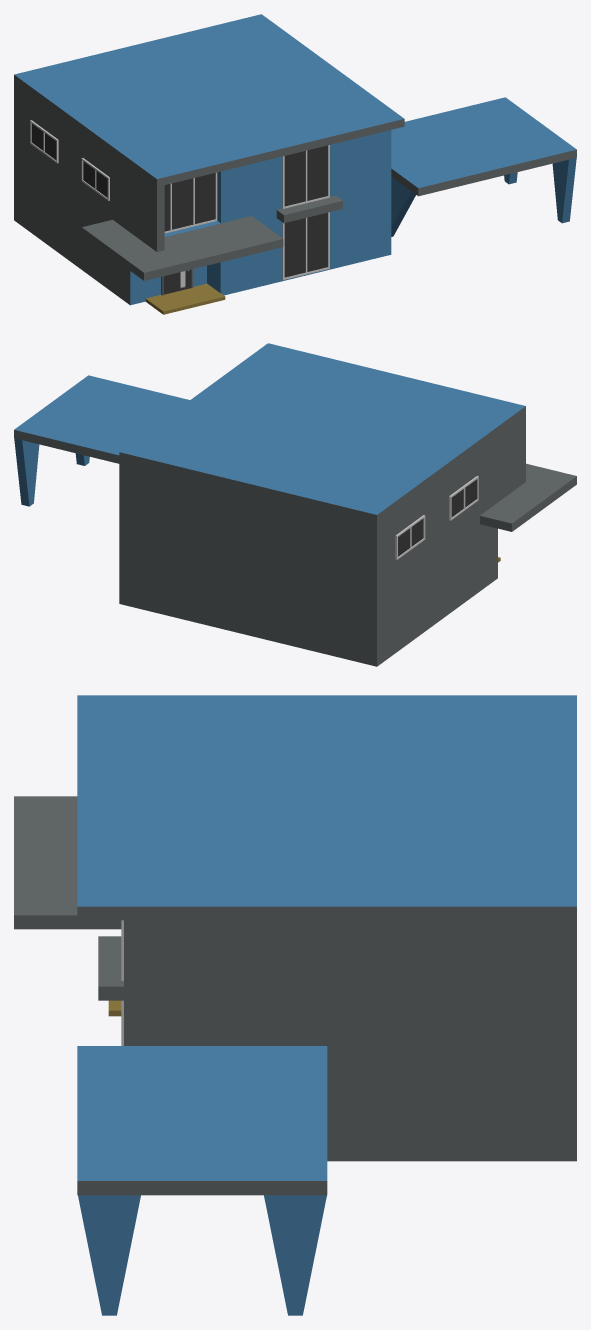
The model's file is building-house-04-color01.glb.
3 renders of one model, top to bottom at view 1: azimuth 30°, elevation 25°; view 2: azimuth 150°, elevation 25°; view 3: azimuth 270°, elevation 25°, orthographic. The views are drawn at different scales.
Visible parts, largest first — view 1: Building_House_04_color01; view 2: Building_House_04_color01; view 3: Building_House_04_color01.
Boxes of the visible parts, x1=… form: Building_House_04_color01: x1=14, y1=14, x2=576, y2=314; Building_House_04_color01: x1=14, y1=343, x2=576, y2=666; Building_House_04_color01: x1=14, y1=695, x2=576, y2=1315.
Bounding box in the file's own units: 24.77 × 7.87 × 15.32.
1 material, 1 textured.
